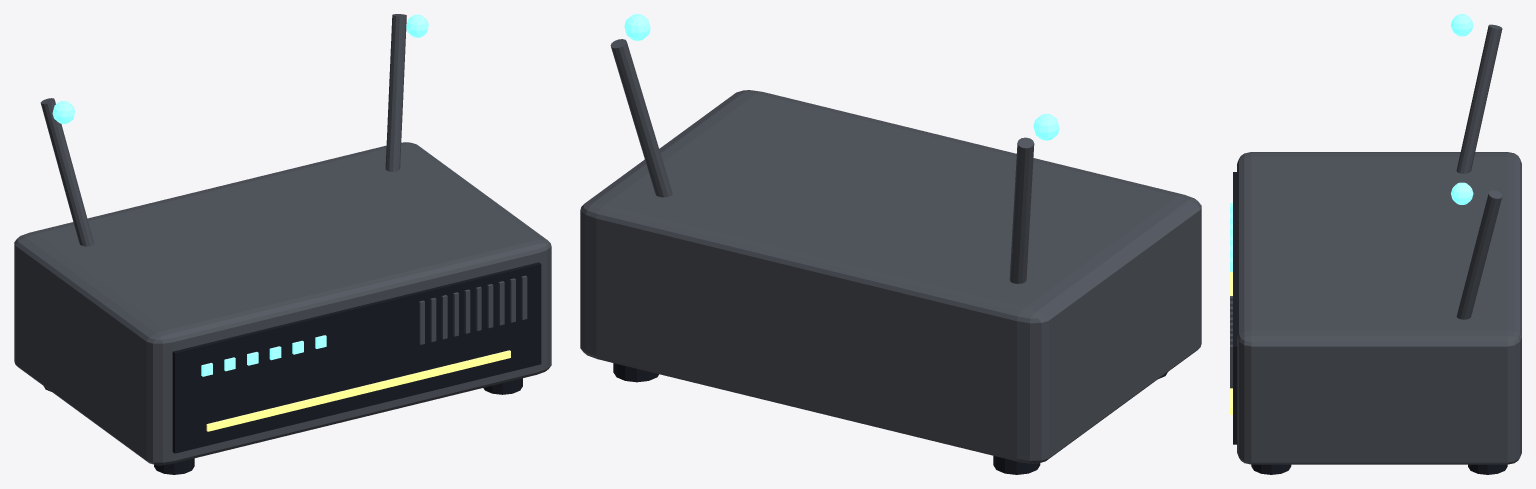
File: edge-node.glb
3 renders of one model, left to right at view 1: azimuth 30°, elevation 25°; view 2: azimuth 150°, elevation 25°; view 3: azimuth 270°, elevation 25°, orthographic. The views are drawn at different scales.
Visible parts, largest first — view 1: Edge_Node; view 2: Edge_Node; view 3: Edge_Node.
Boxes of the visible parts, x1,y1,x2,y2 form: Edge_Node: [14, 14, 551, 474]; Edge_Node: [580, 14, 1201, 474]; Edge_Node: [1230, 14, 1521, 474].
Size of the model in its own units: 1.6 by 1.12 by 1.02.
